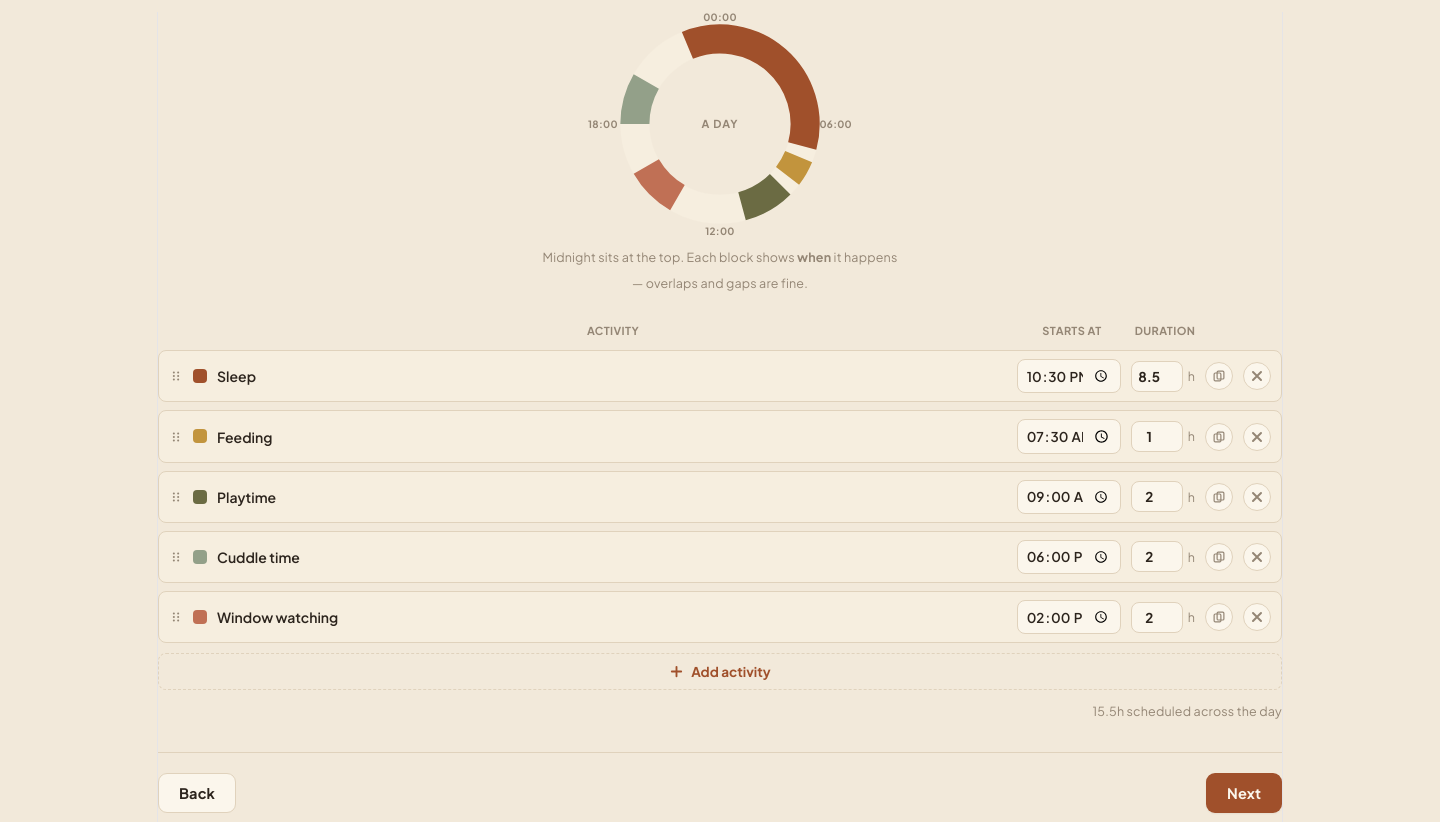
Scenario: RoutineStep add and remove slots › clicking remove on a slot removes it and updates the total
Step 1. Click the 1st button named "remove slot" → (1257, 376), box [1243,362,1271,390]
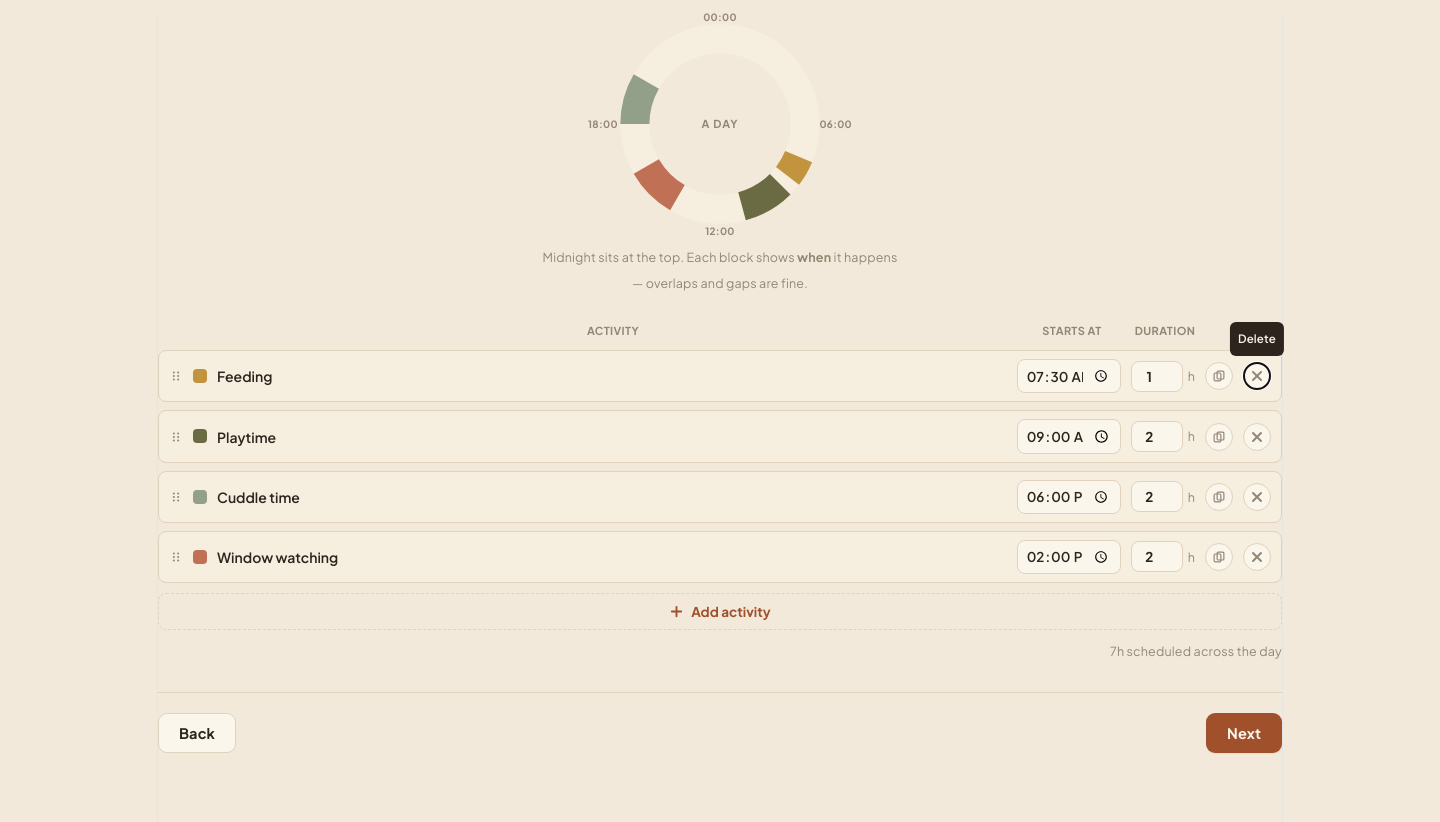
Expected: the number of buttons named "remove slot" is 4, [1243,362,1271,390]; [1243,422,1271,450]; [1243,483,1271,511]; [1243,543,1271,571]
